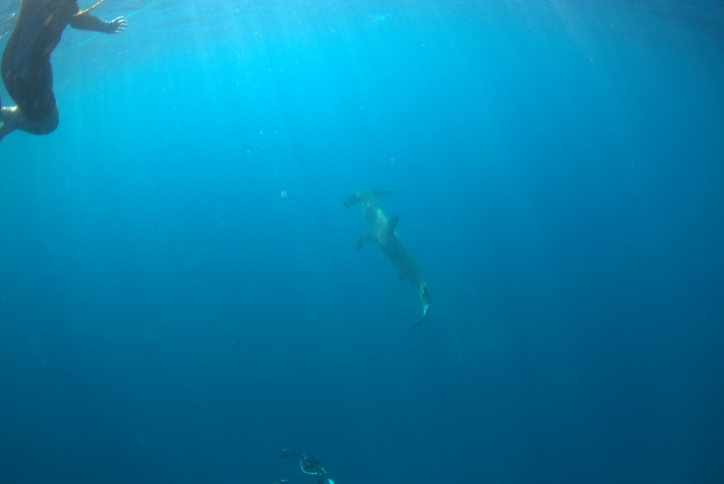Hammer: (325, 180, 464, 356)
